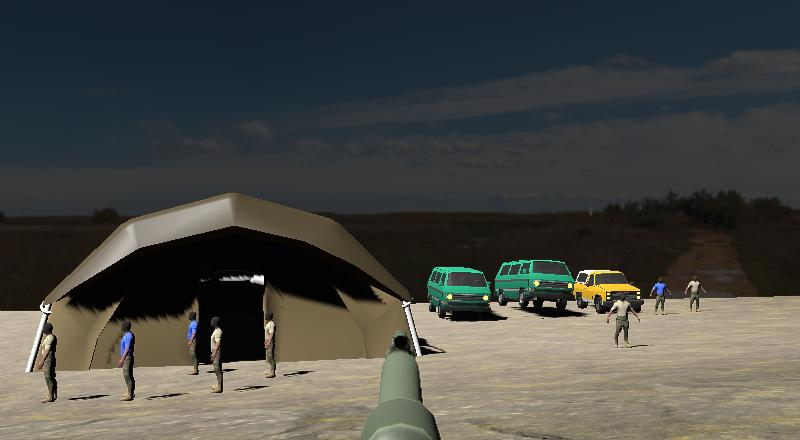Human: (36, 322, 61, 404), (607, 294, 642, 349), (116, 319, 138, 404), (260, 309, 282, 379), (208, 313, 227, 394), (184, 310, 203, 377), (184, 310, 202, 377), (684, 274, 707, 314), (650, 276, 672, 317)
car: (494, 258, 575, 311), (426, 264, 493, 321), (573, 267, 645, 313)
